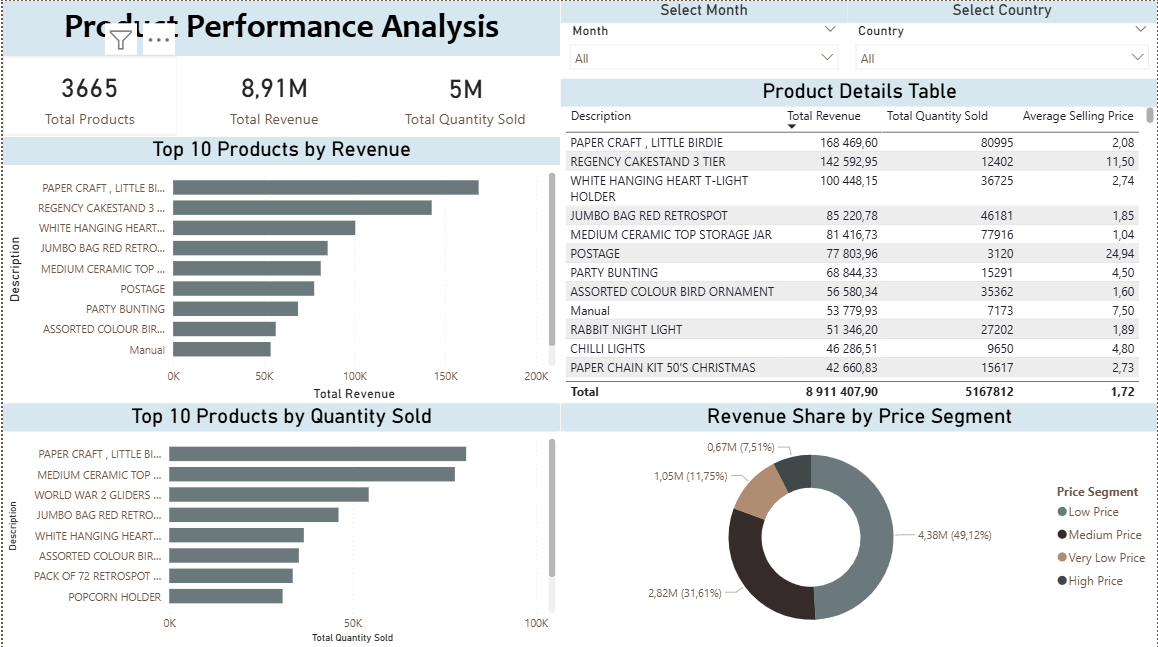

What the dashboard file says about the page in this screenshot:
{"tool":"powerbi","page":{"name":"Product Analysis","canvas":[1280,720],"ordinal":1},"visuals":[{"type":"textbox","box":[0,0,617.7,61.3],"z":0},{"type":"clusteredBarChart","title":"Top 10 Products by Revenue","fields":{"Category":["Online Retail.Description"],"Y":["Online Retail.Total Revenue"]},"box":[0,150,617.7,296.8],"z":1000},{"type":"clusteredBarChart","title":"Top 10 Products by Quantity Sold","fields":{"Category":["Online Retail.Description"],"Y":["Online Retail.Total Quantity Sold"]},"box":[0,446.8,617.7,271],"z":2000},{"type":"card","fields":{"Values":["Online Retail.Total Products"]},"box":[0,61.5,192.3,87.7],"z":3000},{"type":"card","fields":{"Values":["Online Retail.Total Revenue"]},"box":[192.3,61.5,216.9,87.7],"z":4000},{"type":"card","fields":{"Values":["Online Retail.Total Quantity Sold"]},"box":[408.1,61.3,209.7,88.7],"z":5000},{"type":"tableEx","title":"Product Details Table","fields":{"Values":["Online Retail.Description","Online Retail.Total Revenue","Online Retail.Total Quantity Sold","Online Retail.Average Selling Price"]},"box":[617.7,85.5,662.9,361.3],"z":6000},{"type":"slicer","title":"Select Country","fields":{"Values":["Online Retail.Country"]},"box":[935.5,0,345.2,85.5],"z":7000},{"type":"slicer","title":"Select Month","fields":{"Values":["Online Retail.Month"]},"box":[617.7,0,317.7,85.5],"z":8000},{"type":"donutChart","title":"Revenue Share by Price Segment","fields":{"Category":["Online Retail.Price Segment"],"Y":["Online Retail.Total Revenue"]},"box":[617.7,446.8,662.9,271],"z":9000}]}

Visuals, with their boxes in screenshot pixels (x1, y1, x2, y2), scaled from the page's 1280x720 canvas onto the 1158x647 screenshot:
textbox: BBox(0, 0, 559, 55)
"Top 10 Products by Revenue" clusteredBarChart: BBox(0, 135, 559, 401)
"Top 10 Products by Quantity Sold" clusteredBarChart: BBox(0, 401, 559, 645)
card - Online Retail.Total Products: BBox(0, 55, 174, 134)
card - Online Retail.Total Revenue: BBox(174, 55, 370, 134)
card - Online Retail.Total Quantity Sold: BBox(369, 55, 559, 135)
"Product Details Table" tableEx: BBox(559, 77, 1157, 401)
"Select Country" slicer: BBox(846, 0, 1157, 77)
"Select Month" slicer: BBox(559, 0, 846, 77)
"Revenue Share by Price Segment" donutChart: BBox(559, 401, 1157, 645)
